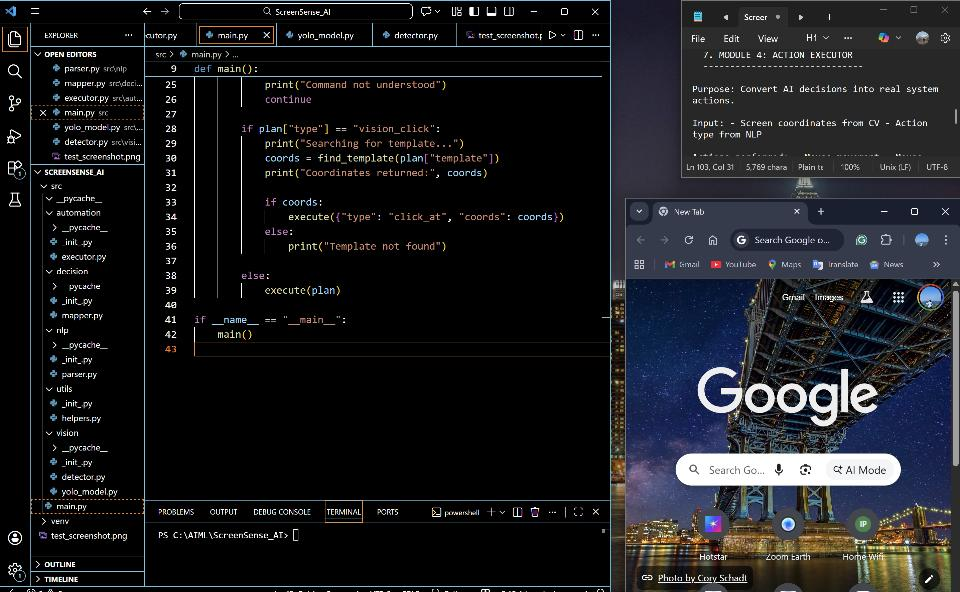close_button: (936, 2, 957, 23), (937, 200, 956, 223), (586, 2, 605, 22)
maximize_button: (904, 1, 930, 27), (905, 199, 926, 225), (554, 1, 576, 23)
minimize_button: (873, 199, 897, 223), (874, 1, 896, 24), (526, 2, 546, 22)
